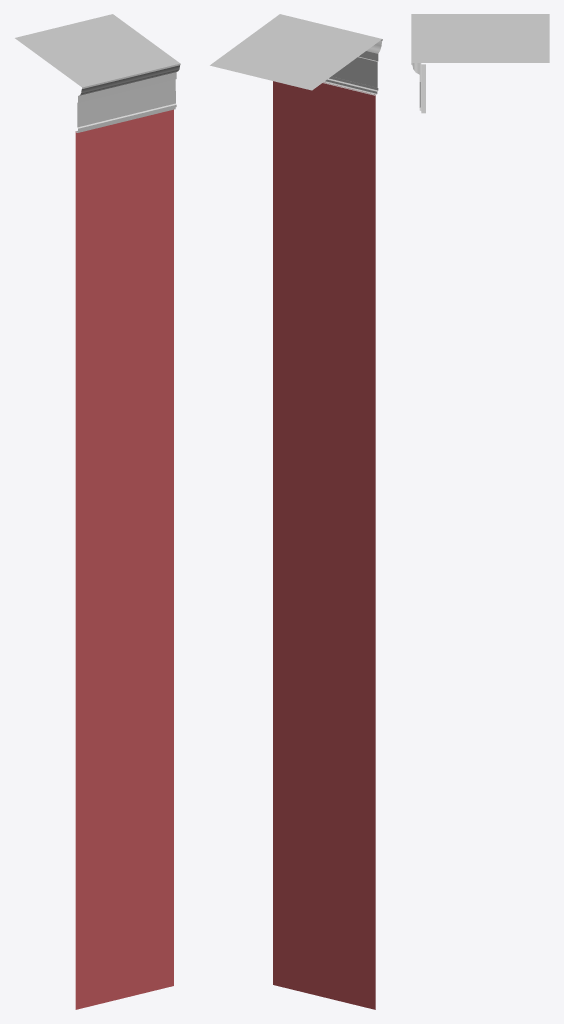
File: station_wall_small4.fbx
3 views of the same model, side by side, from view 1: azimuth 30°, elevation 25°; view 2: azimuth 150°, elevation 25°; view 3: azimuth 270°, elevation 25° (orthographic). The views are drawn at different scales.
Parts seen in each view (by area): view 1: wall_small4; view 2: wall_small4; view 3: wall_small4.
Part boxes in pixels (left/top/right/bottom): wall_small4: left=15, top=14, right=180, bottom=1009; wall_small4: left=210, top=14, right=382, bottom=1009; wall_small4: left=411, top=14, right=549, bottom=113.
Bounding box in the file's own units: 0.4 × 3.6 × 0.476.
